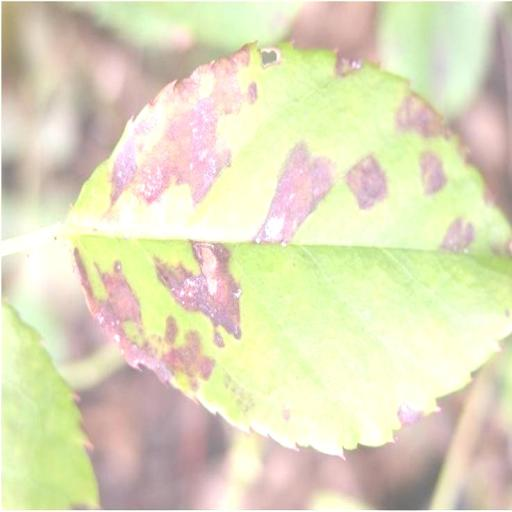downy_mildew: (67, 45, 511, 453)
